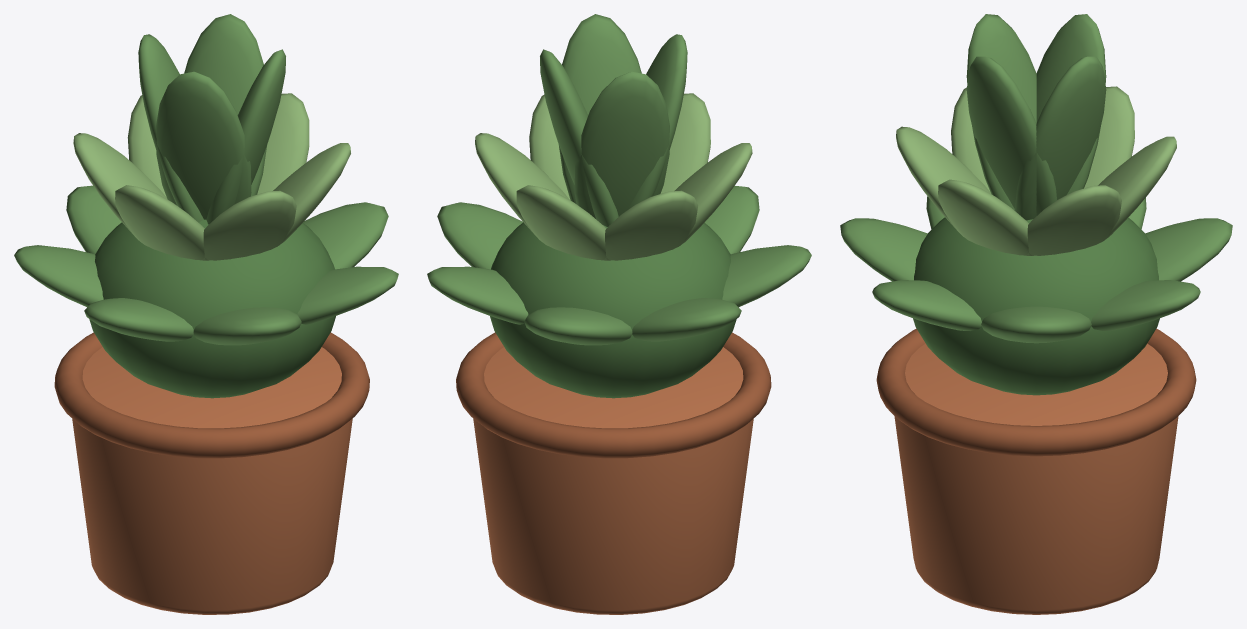
Rendered from plant_floor.glb.
3 renders of one model, left to right at view 1: azimuth 30°, elevation 25°; view 2: azimuth 150°, elevation 25°; view 3: azimuth 270°, elevation 25°, orthographic.
Visible parts, largest first — view 1: plant_floor_pot, plant_floor_heart, plant_floor_pot_rim, plant_floor_leaf.015, plant_floor_leaf.013, plant_floor_leaf.011, plant_floor_leaf.016, plant_floor_leaf.010, plant_floor_leaf, plant_floor_leaf.003, plant_floor_leaf.006, plant_floor_leaf.014 (+7 smaller); view 2: plant_floor_pot, plant_floor_heart, plant_floor_pot_rim, plant_floor_leaf.014, plant_floor_leaf.016, plant_floor_leaf.009, plant_floor_leaf.013, plant_floor_leaf.008, plant_floor_leaf, plant_floor_leaf.004, plant_floor_leaf.001, plant_floor_leaf.003 (+7 smaller); view 3: plant_floor_pot, plant_floor_heart, plant_floor_pot_rim, plant_floor_leaf.013, plant_floor_leaf.016, plant_floor_leaf.007, plant_floor_leaf.012, plant_floor_leaf.015, plant_floor_leaf.002, plant_floor_leaf.005, plant_floor_leaf.014, plant_floor_leaf.001 (+6 smaller).
Boxes of the visible parts, bbox=[...] form: plant_floor_pot: bbox=[72, 347, 352, 614]; plant_floor_heart: bbox=[89, 219, 335, 398]; plant_floor_pot_rim: bbox=[54, 332, 369, 458]; plant_floor_leaf.015: bbox=[156, 71, 251, 219]; plant_floor_leaf.013: bbox=[184, 14, 266, 196]; plant_floor_leaf.011: bbox=[202, 190, 296, 260]; plant_floor_leaf.016: bbox=[206, 49, 285, 224]; plant_floor_leaf.010: bbox=[115, 185, 208, 260]; plant_floor_leaf: bbox=[303, 202, 388, 269]; plant_floor_leaf.003: bbox=[14, 245, 103, 307]; plant_floor_leaf.006: bbox=[297, 266, 398, 324]; plant_floor_leaf.014: bbox=[138, 34, 203, 222]; plant_floor_pot: bbox=[473, 347, 753, 614]; plant_floor_heart: bbox=[490, 222, 736, 398]; plant_floor_pot_rim: bbox=[456, 332, 771, 458]; plant_floor_leaf.014: bbox=[574, 71, 669, 218]; plant_floor_leaf.016: bbox=[559, 14, 641, 203]; plant_floor_leaf.009: bbox=[603, 190, 697, 260]; plant_floor_leaf.013: bbox=[540, 49, 618, 226]; plant_floor_leaf.008: bbox=[516, 185, 609, 260]; plant_floor_leaf: bbox=[437, 202, 522, 269]; plant_floor_leaf.004: bbox=[722, 245, 811, 307]; plant_floor_leaf.001: bbox=[427, 266, 528, 324]; plant_floor_leaf.003: bbox=[632, 298, 741, 341]; plant_floor_pot: bbox=[894, 343, 1178, 614]; plant_floor_heart: bbox=[913, 217, 1159, 395]; plant_floor_pot_rim: bbox=[876, 328, 1196, 456]; plant_floor_leaf.013: bbox=[1014, 56, 1106, 220]; plant_floor_leaf.016: bbox=[966, 56, 1056, 215]; plant_floor_leaf.007: bbox=[1026, 185, 1121, 255]; plant_floor_leaf.012: bbox=[938, 179, 1032, 255]; plant_floor_leaf.015: bbox=[966, 14, 1036, 210]; plant_floor_leaf.002: bbox=[1145, 218, 1232, 281]; plant_floor_leaf.005: bbox=[840, 218, 927, 281]; plant_floor_leaf.014: bbox=[1036, 14, 1106, 194]; plant_floor_leaf.001: bbox=[1091, 280, 1200, 330].
Bounding box in the file's own units: 0.5062 × 0.7691 × 0.5152.
